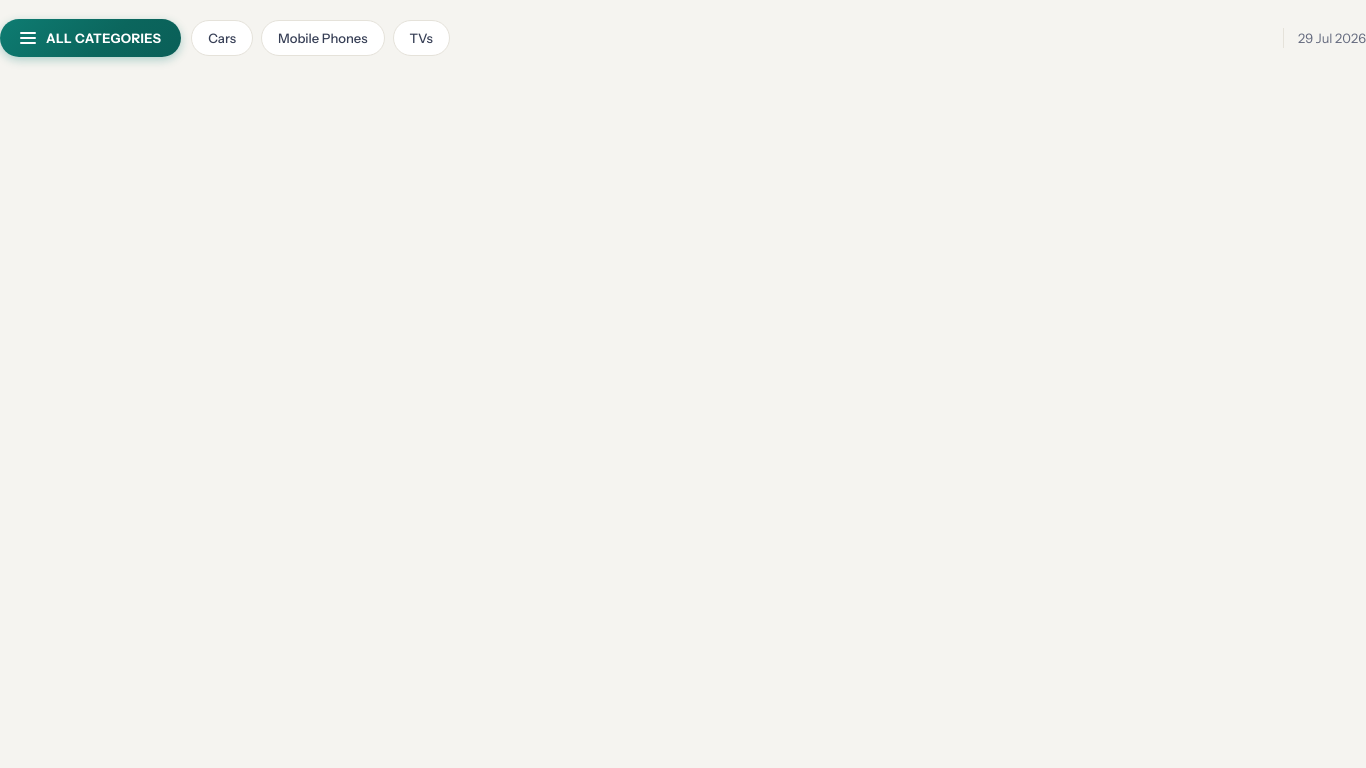
Test: CategoryMegaMenu › selecting a parent group from the mega menu chooses it and closes the menu
The width and height of the screenshot is (1366, 768).
Click the button "ALL CATEGORIES" at x=91, y=38, box [0,19,181,57]
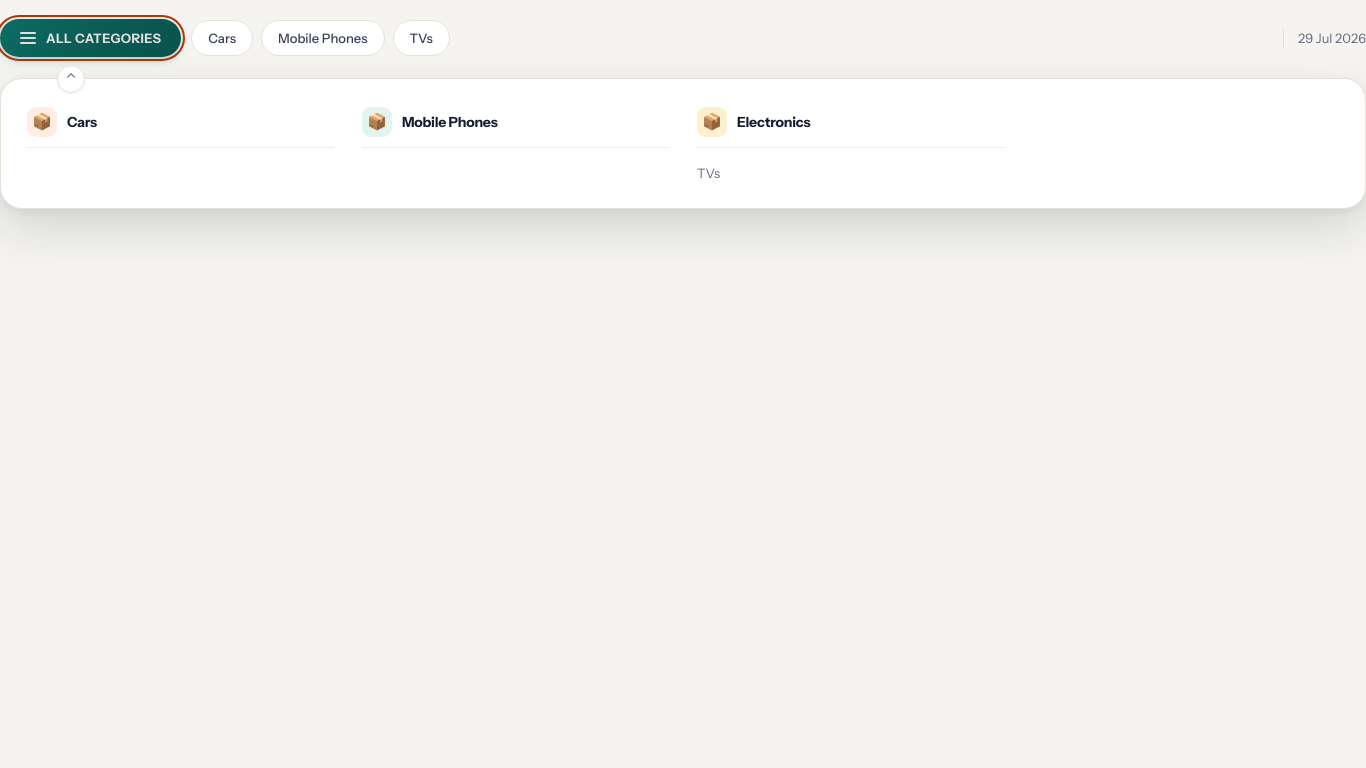
Click the button "📦 Electronics" at x=774, y=122, box [697,107,1004,148]
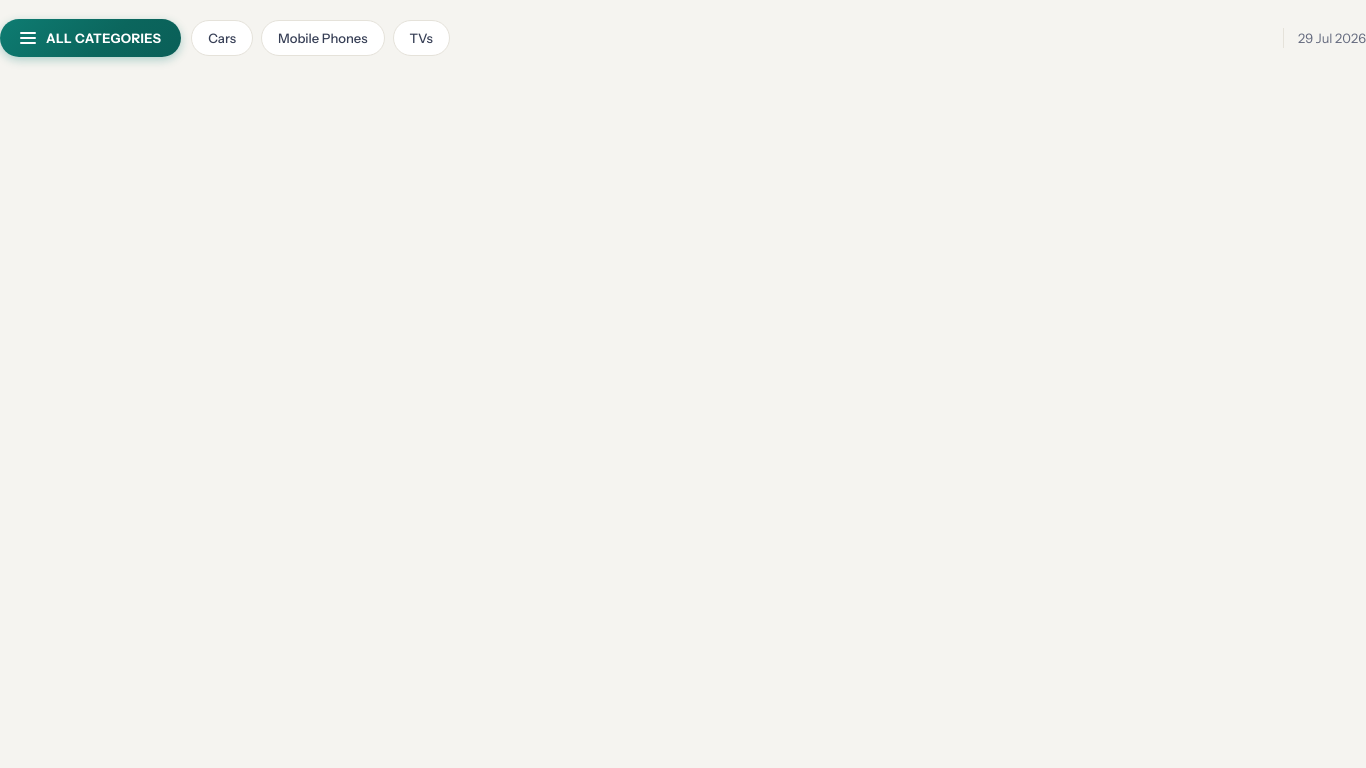
Result: the dialog is gone
